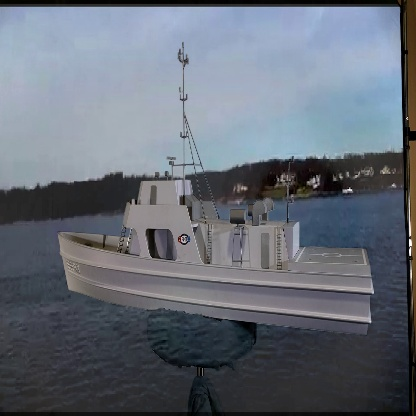YP689: (57, 40, 375, 338)
